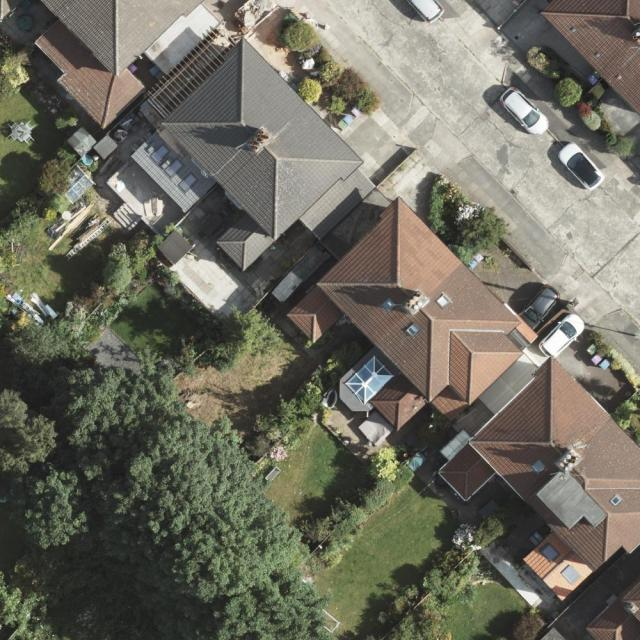roof: (285, 193, 537, 432), (130, 39, 376, 273), (436, 356, 640, 603), (34, 0, 224, 131), (541, 0, 640, 120), (588, 578, 640, 640)
skylight: (345, 355, 393, 404), (175, 171, 199, 194), (164, 158, 185, 178), (541, 542, 561, 563), (560, 562, 581, 582), (149, 146, 171, 162), (436, 291, 452, 309), (402, 322, 421, 336), (608, 493, 623, 508), (532, 458, 547, 472), (382, 300, 396, 314)
